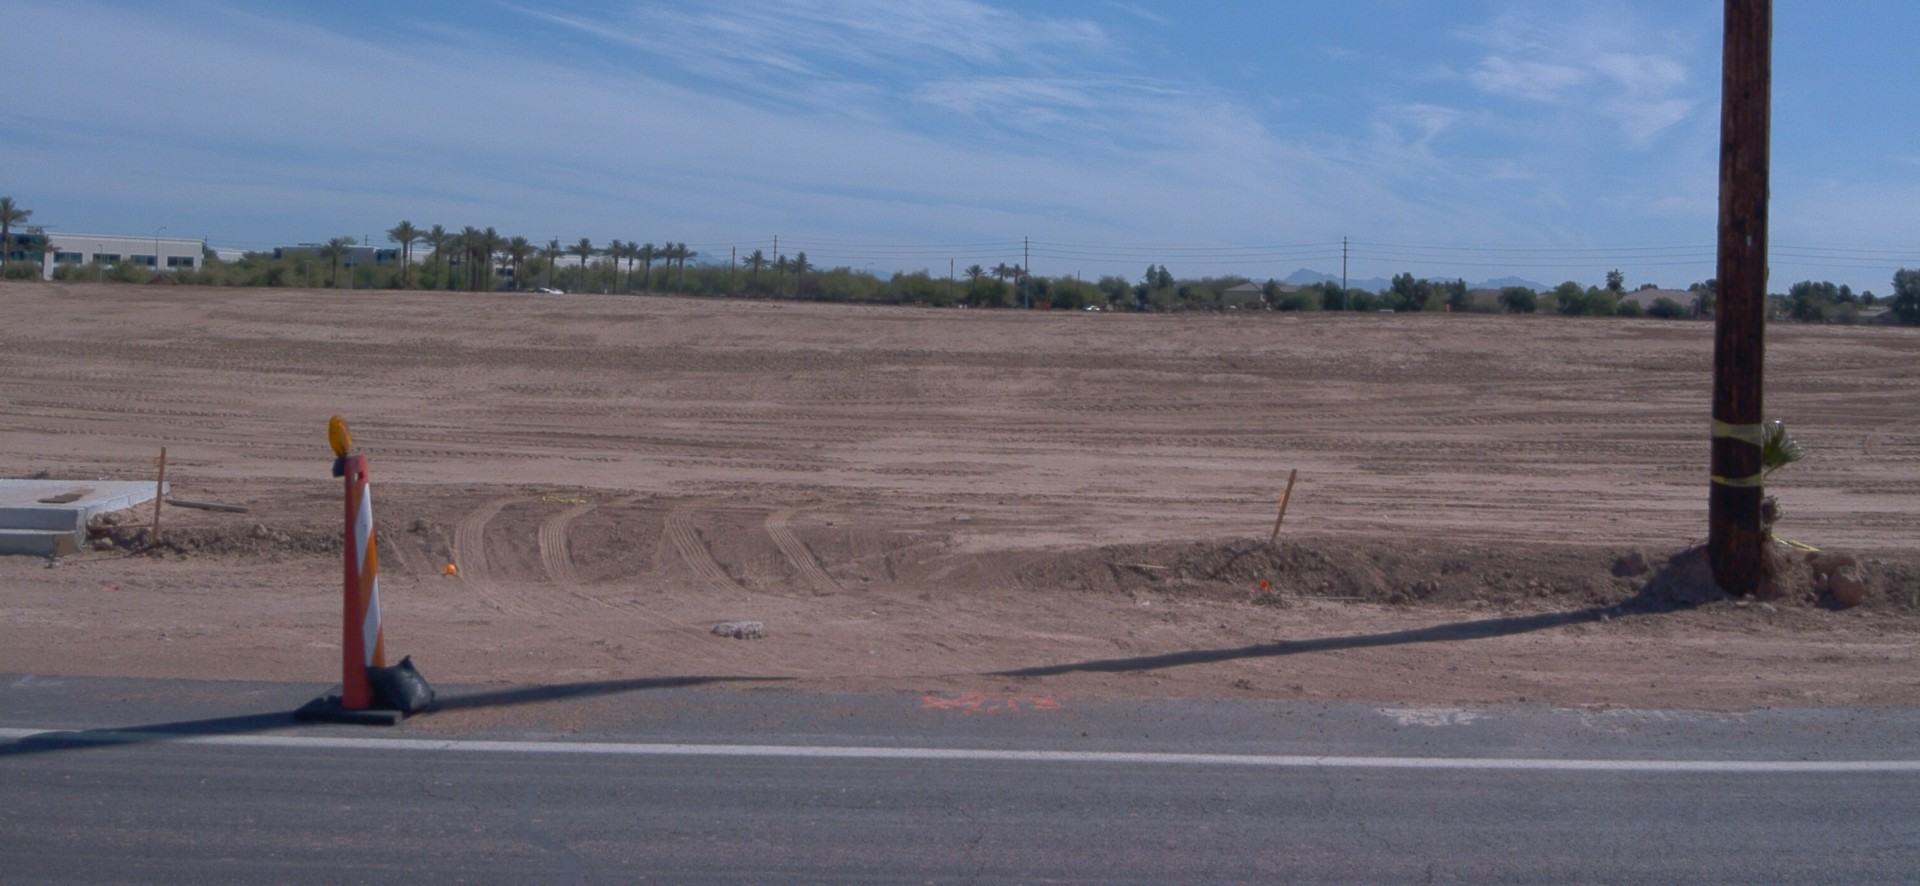TYPE_VEHICLE: (536, 288, 567, 294), (536, 288, 567, 294), (536, 288, 567, 294), (536, 288, 567, 294)
